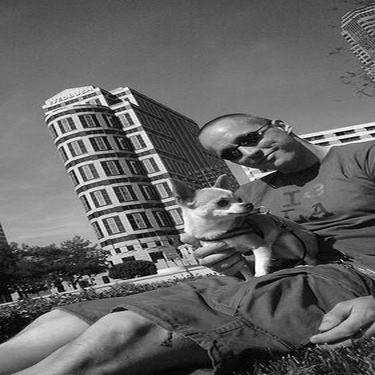dog: (136, 163, 327, 279)
